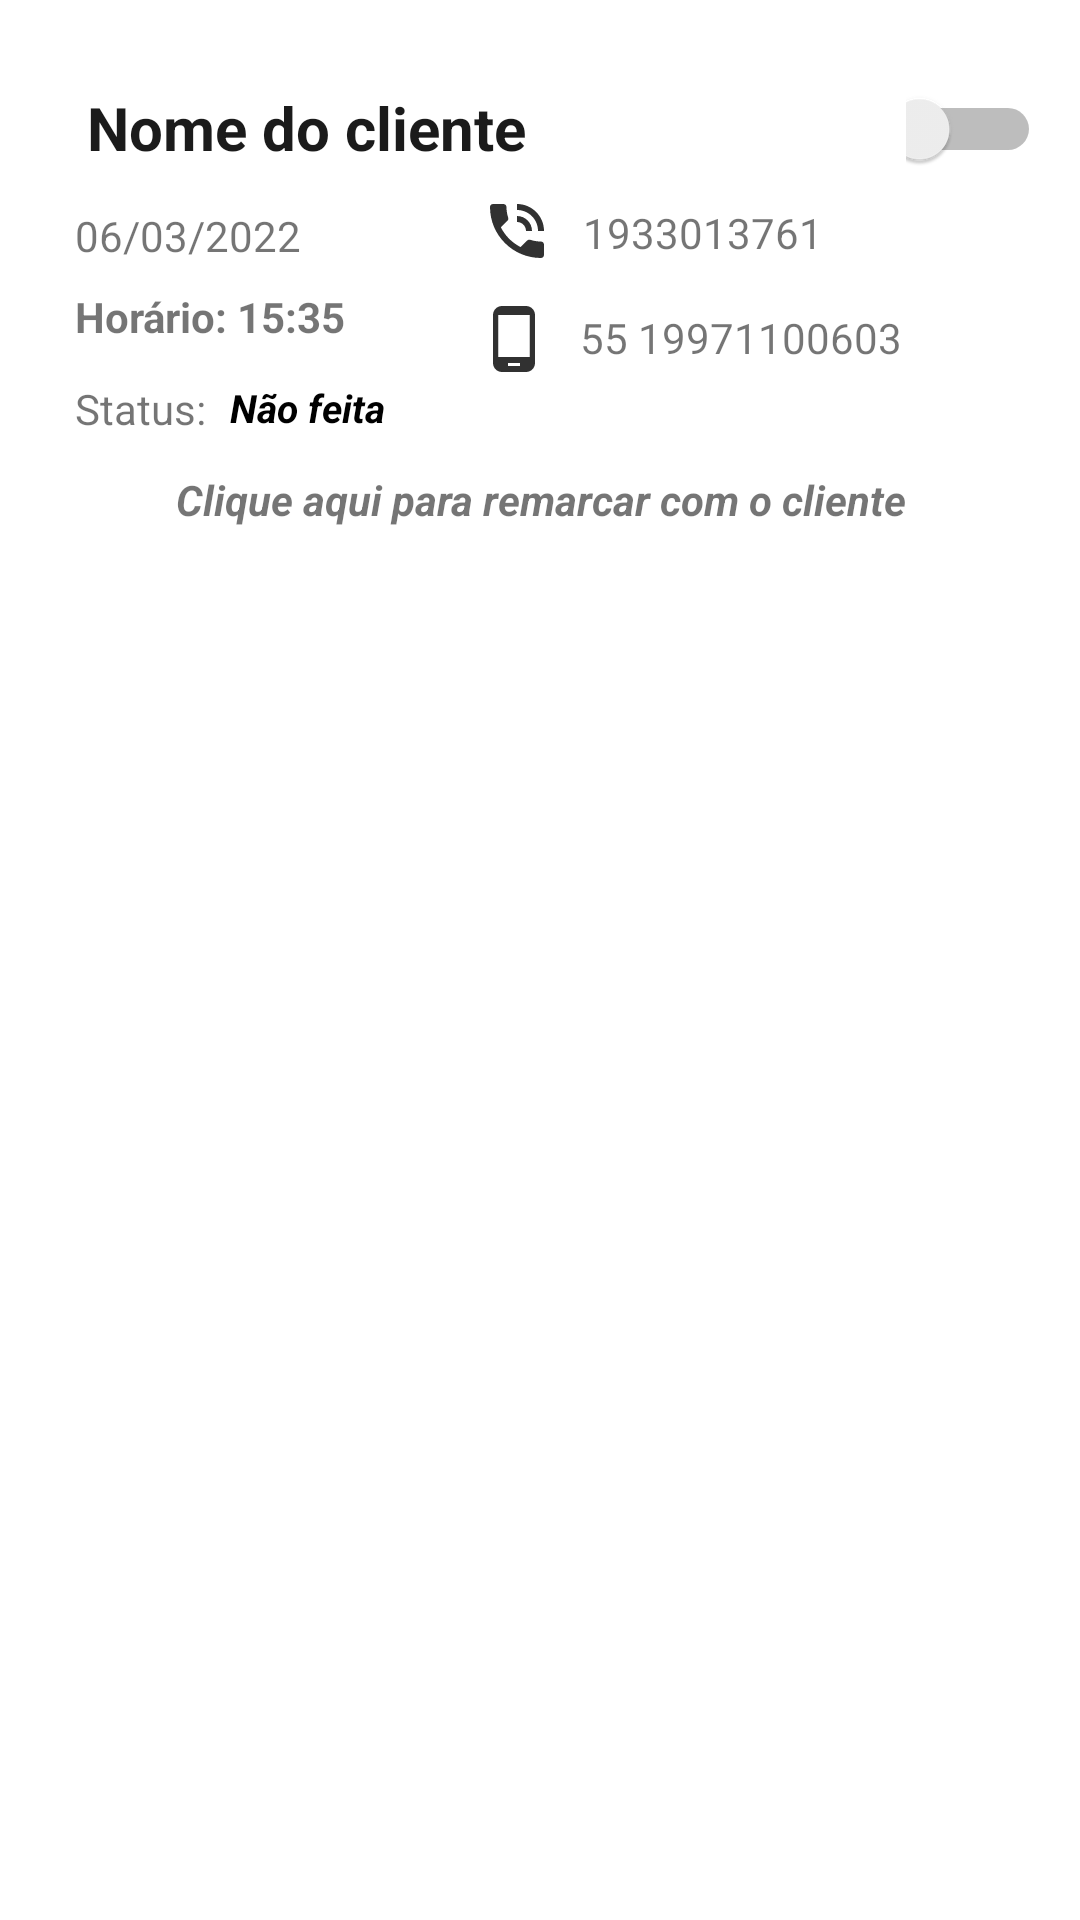

Where icons sit on this 1080×1920 app screen, as (x1, y1, x2, y2):
phone: (493, 306, 535, 372)
phone in talk: (490, 204, 544, 258)
